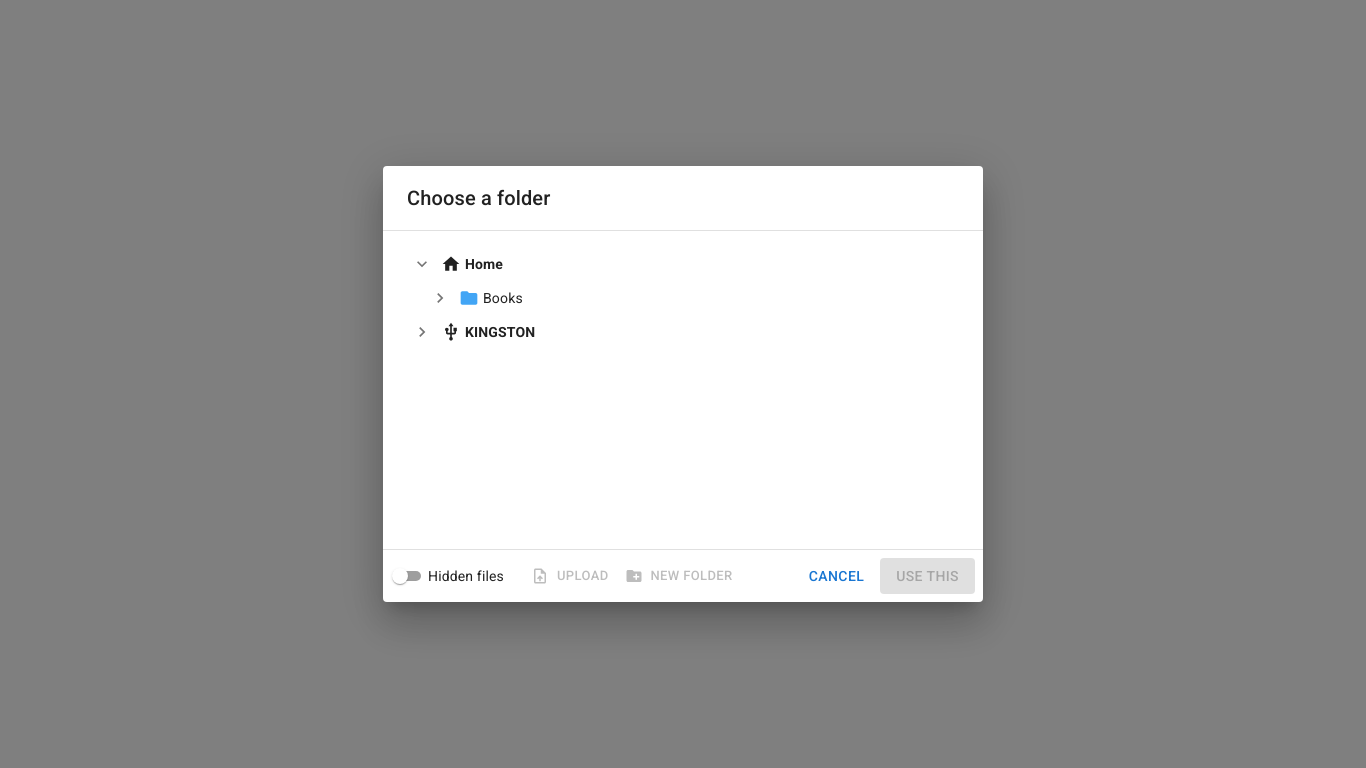
Scenario: making a folder › needs somewhere to put it
Expected: the button "New folder" is disabled, [622, 561, 738, 591]
Click the text "Books". click: [503, 298]
box: [483, 288, 523, 308]
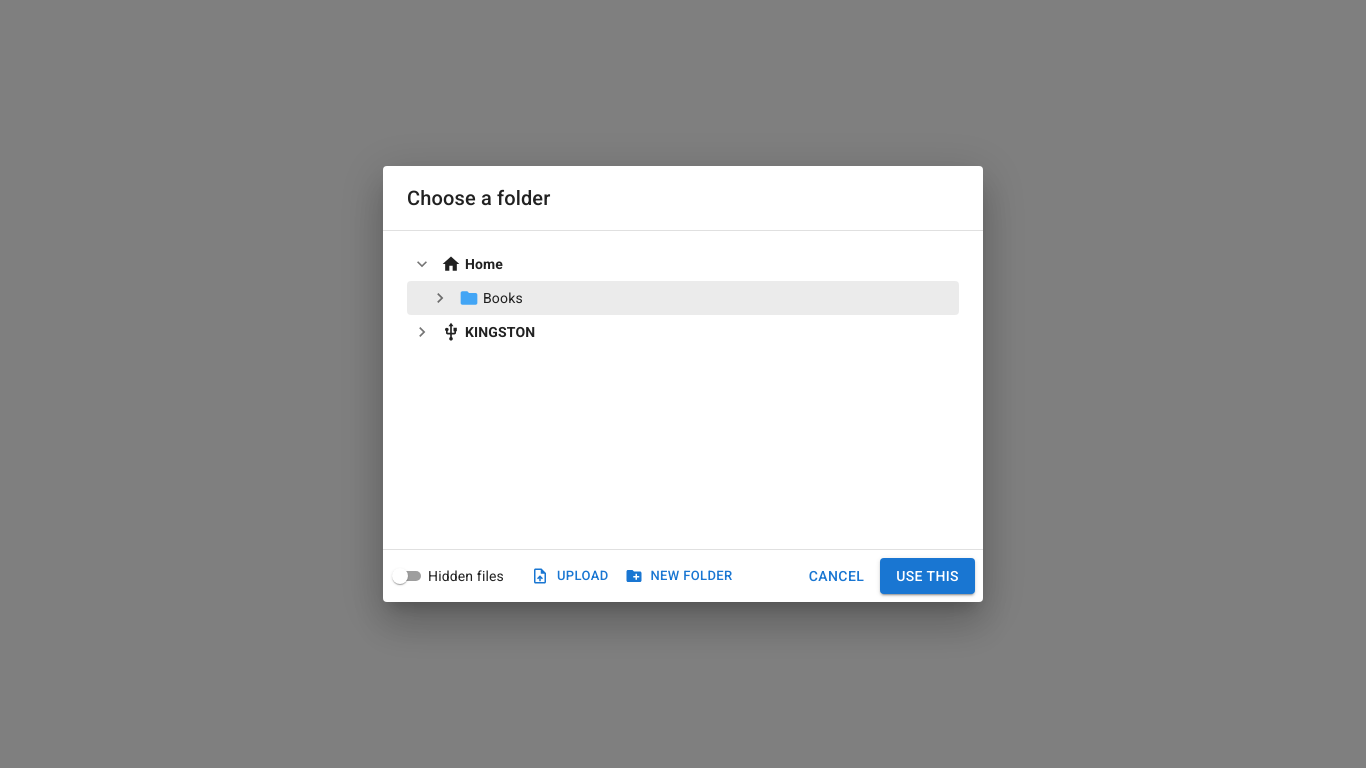
Expected: the button "New folder" is enabled, [622, 561, 738, 591]
